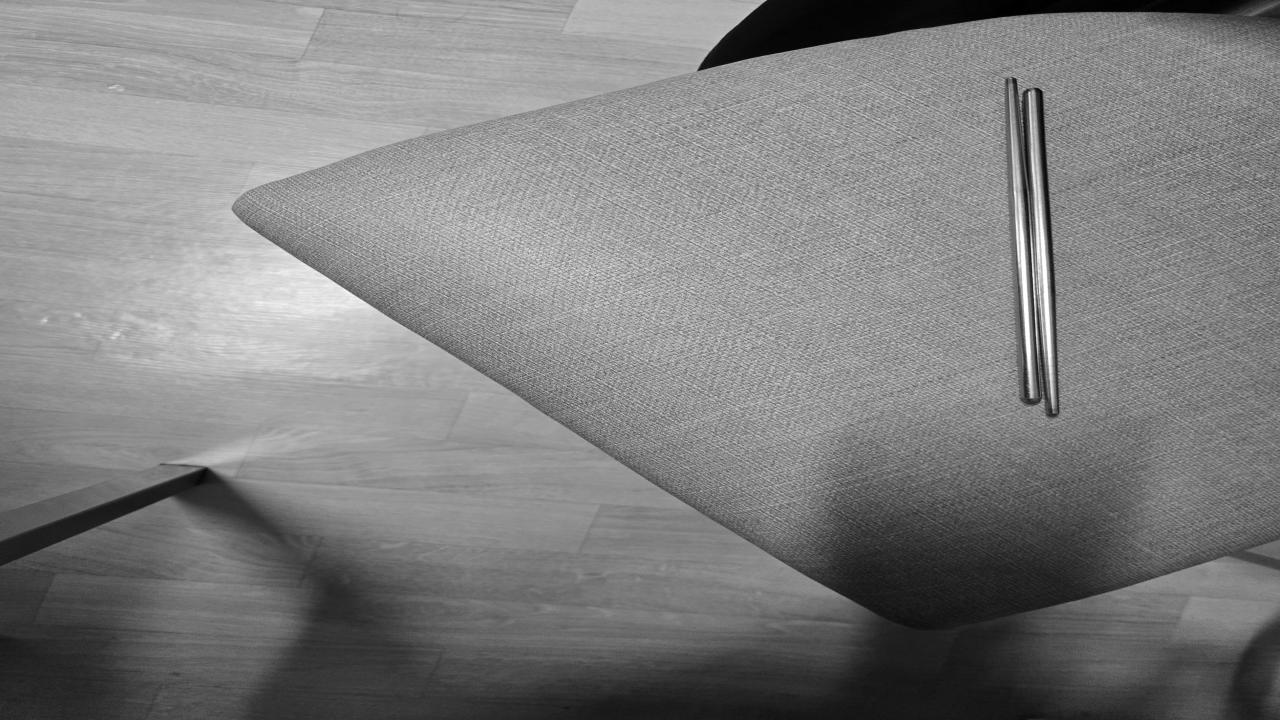chopstick: (999, 76, 1060, 416)
